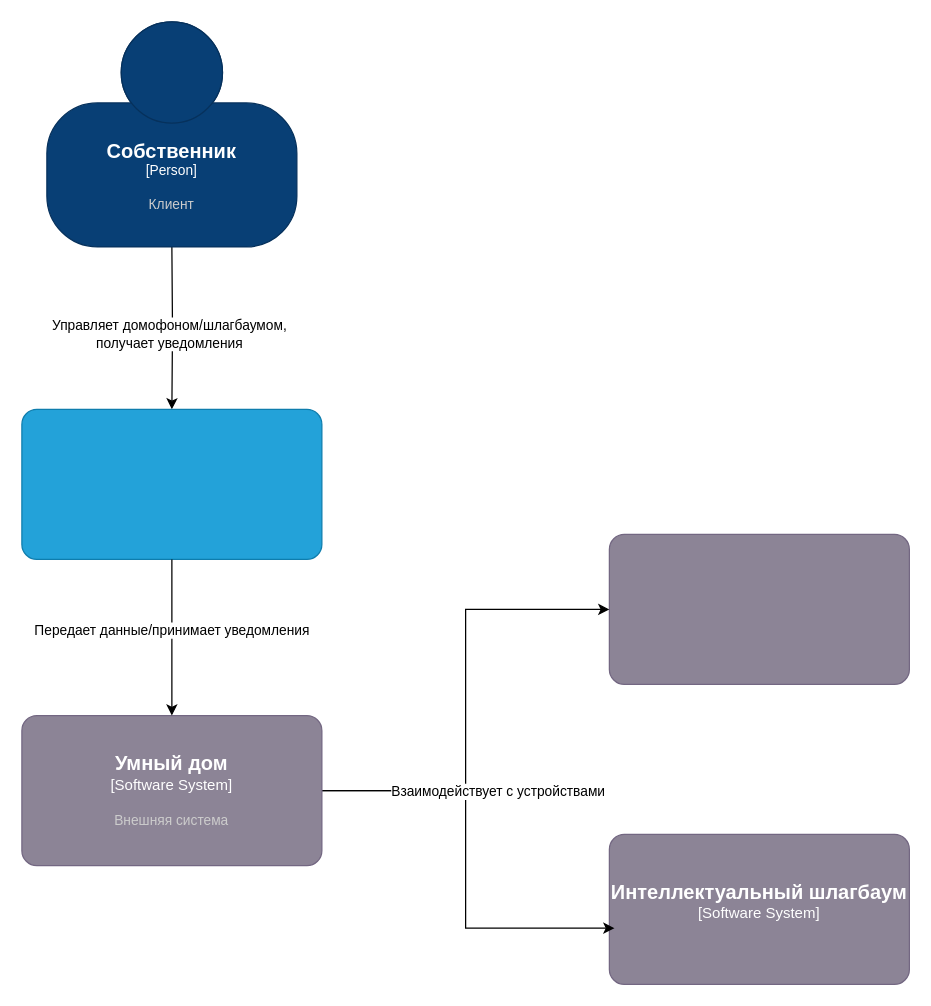
The diagram is 931 pixels wide and 1006 high, and some of its shapes have lost their labels. Here are the shapes that lost their labels. From the top down, the centre of each, then its label:
At point (171, 483): "PropDevelopment [Software system: ] Software system".
At point (758, 608): "Интеллектуальный домофон [Software System]".
